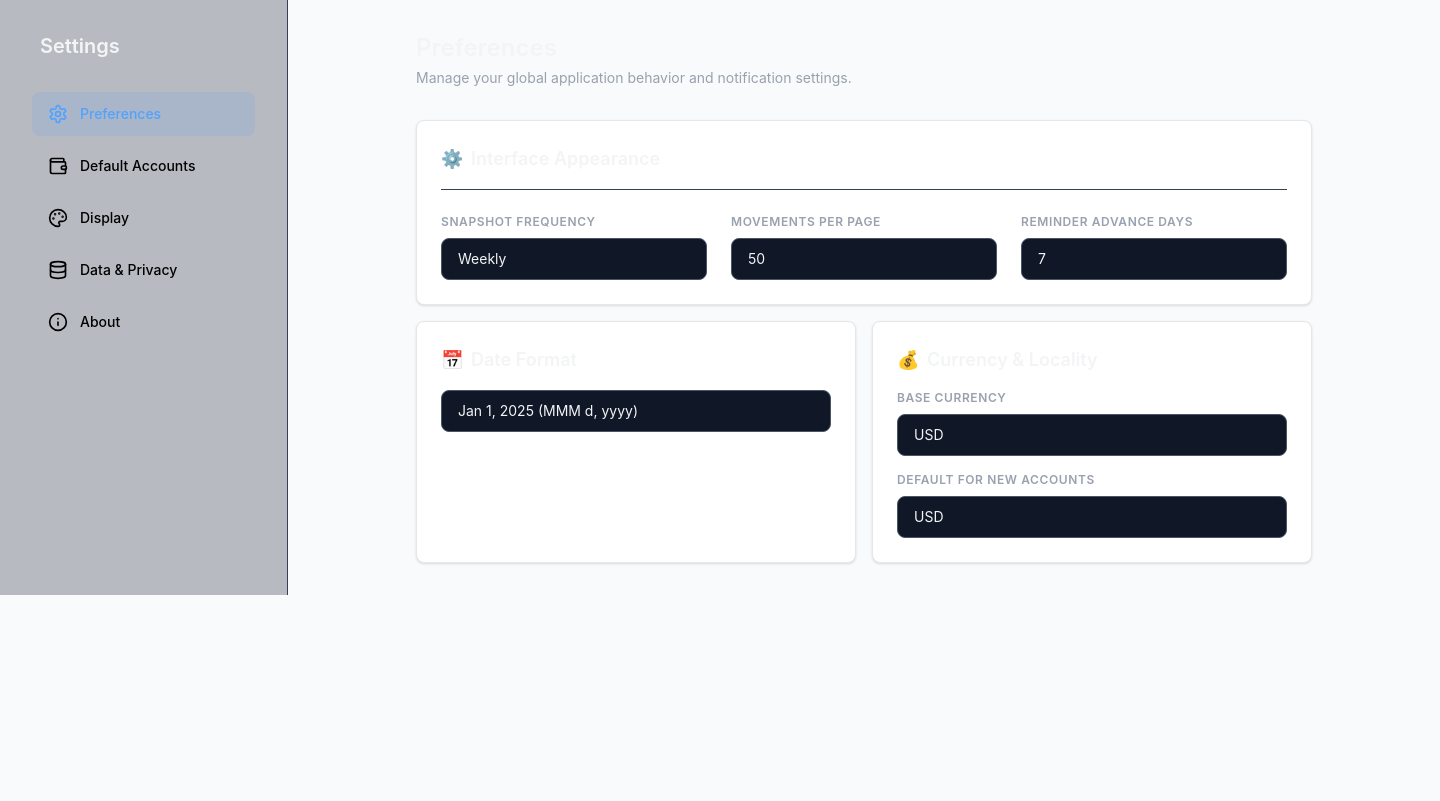
Test case: SettingsPage › switches to Data & Privacy and exposes the Export button
This screenshot has width=1440, height=801.
Click the button "Data & Privacy": (144, 270) [32,248,255,292]
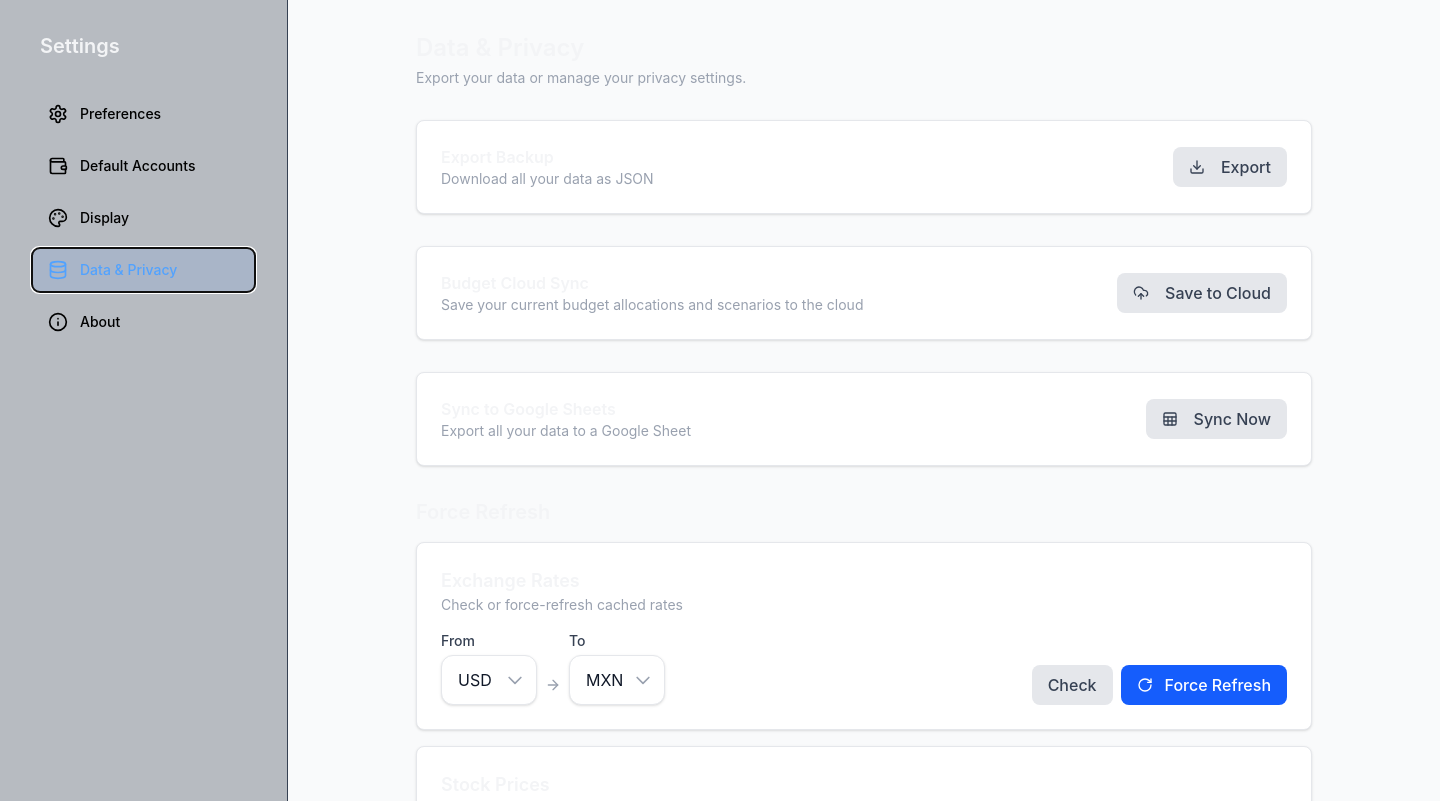
Check: the button "Export" is shown, box [1173,147,1287,187]
